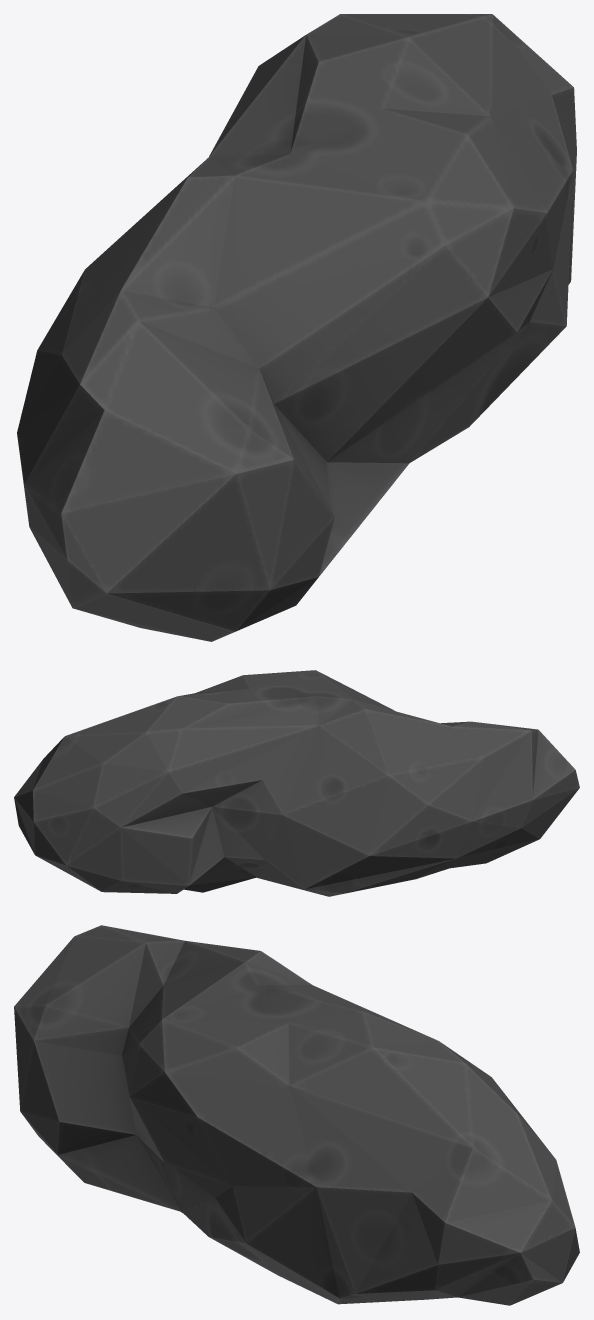
File: asteroid8.glb
3 renders of one model, top to bottom at view 1: azimuth 30°, elevation 25°; view 2: azimuth 150°, elevation 25°; view 3: azimuth 270°, elevation 25°, orthographic. The views are drawn at different scales.
Parts seen in each view (by area): view 1: Asteroids_Mesh.008; view 2: Asteroids_Mesh.008; view 3: Asteroids_Mesh.008.
Part boxes in pixels (bbox=[...]): Asteroids_Mesh.008: bbox=[17, 14, 576, 641]; Asteroids_Mesh.008: bbox=[14, 670, 579, 896]; Asteroids_Mesh.008: bbox=[14, 925, 579, 1305].
Size of the model in its own units: 6.18 by 2.79 by 5.34.
1 material, 1 textured.
